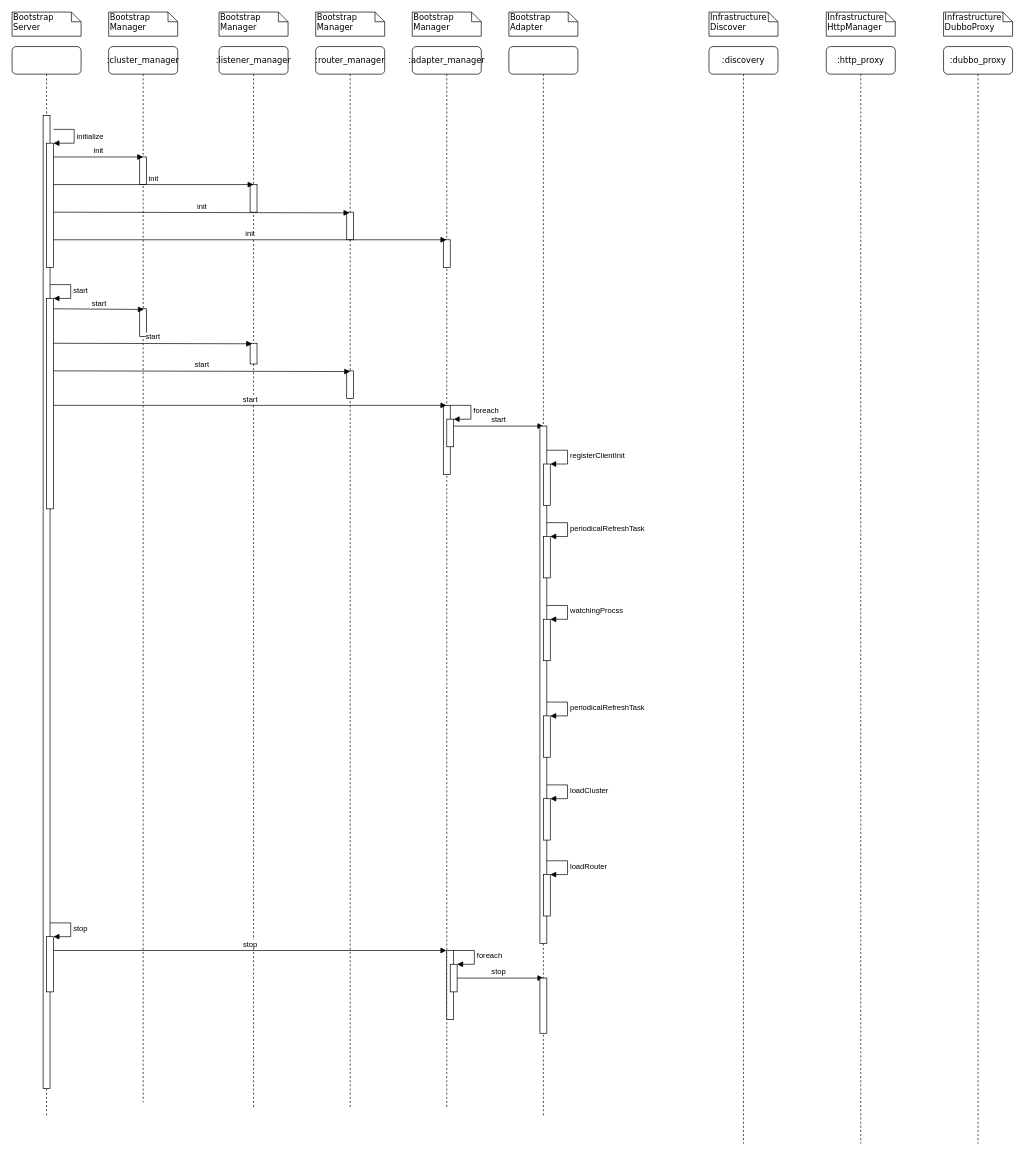
Image size: 1025x1156. Some labels were removed from this diagram. The shapes that lost their labels are listed below. From the top down, each one's box as (x1, y1, x2, y2) in pixels, then its label:
(11, 46, 81, 1116): :pixiu_start
(508, 46, 578, 1116): :spring_cloud
